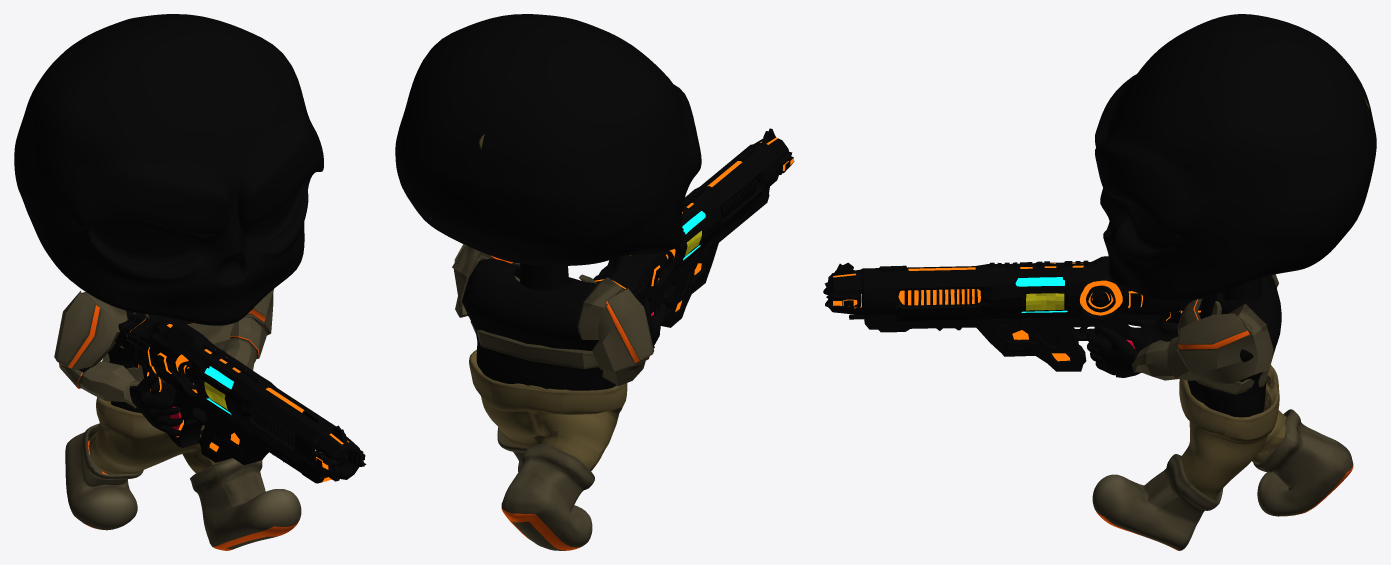
The model's file is craneoconarmaAPUNTANDOblend.fbx.
3 renders of one model, left to right at view 1: azimuth 30°, elevation 25°; view 2: azimuth 150°, elevation 25°; view 3: azimuth 270°, elevation 25°, orthographic.
Visible parts, largest first — view 1: cabeza3, arma, bota, polySurface4, pantalon, polySurface5, polySurface5.001, polySurface3.001; view 2: cabeza3, arma, polySurface5.001, pantalon, bota, polySurface4, polySurface3.001, polySurface5; view 3: cabeza3, arma, bota, polySurface4, pantalon, polySurface5.001, polySurface5, polySurface3.001.
Part boxes in pixels (x1,y1,x2,y2): cabeza3: (14,14,323,325); arma: (115,313,366,483); bota: (65,423,301,550); polySurface4: (54,289,273,408); pantalon: (89,397,219,474); polySurface5: (129,373,205,443); polySurface5.001: (78,310,192,412); polySurface3.001: (102,312,233,382); cabeza3: (395,14,701,290); arma: (593,128,794,348); polySurface5.001: (462,258,616,390); pantalon: (469,349,627,471); bota: (497,427,594,550); polySurface4: (452,244,653,386); polySurface3.001: (470,262,598,369); polySurface5: (642,299,667,346); cabeza3: (1095,14,1376,301); arma: (823,256,1204,377); bota: (1092,409,1353,550); polySurface4: (1131,274,1278,383); pantalon: (1179,365,1286,499); polySurface5.001: (1187,275,1281,417); polySurface5: (1087,319,1178,375); polySurface3.001: (1177,298,1275,394).
Bounding box in the file's own units: 53.18 × 99.67 × 99.76.
